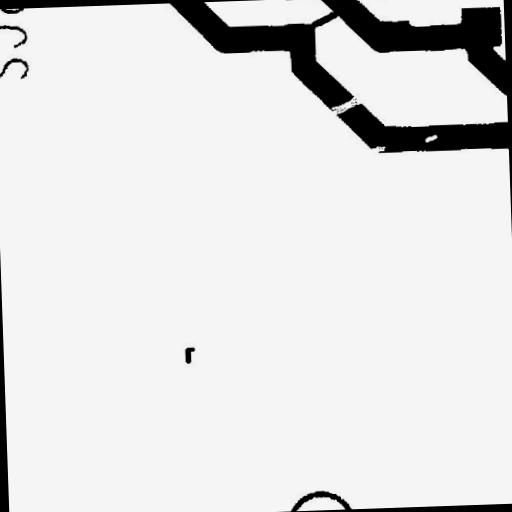copper: (176, 339, 202, 371)
mousebite: (360, 137, 393, 160)
open: (316, 88, 371, 124)
pin-hole: (416, 126, 444, 150)
short: (297, 3, 346, 38)
